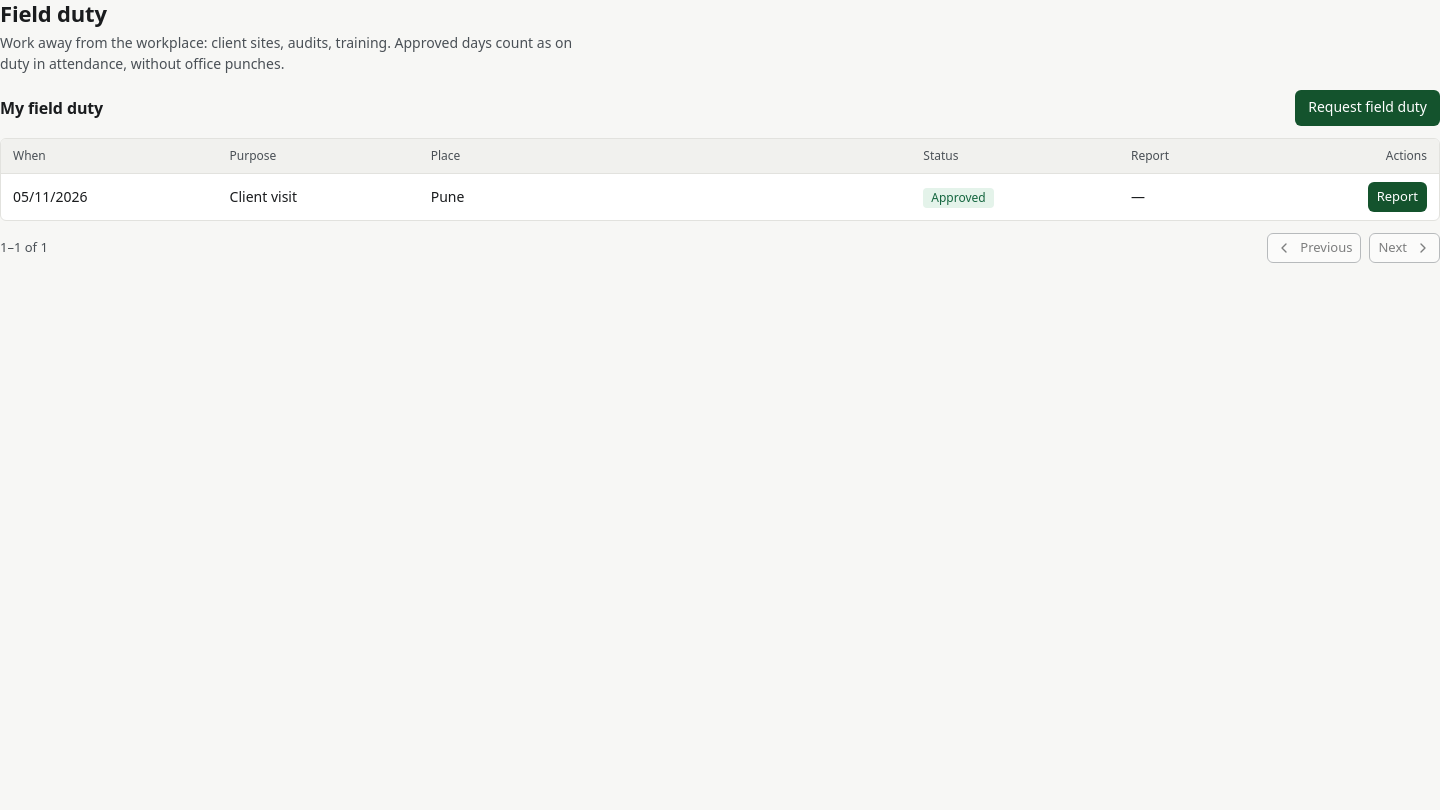
Test: reporting on a duty › completed needs no note, and sends none
The image size is (1440, 810).
Click the button "Report": (1397, 196) [1368,182,1427,212]
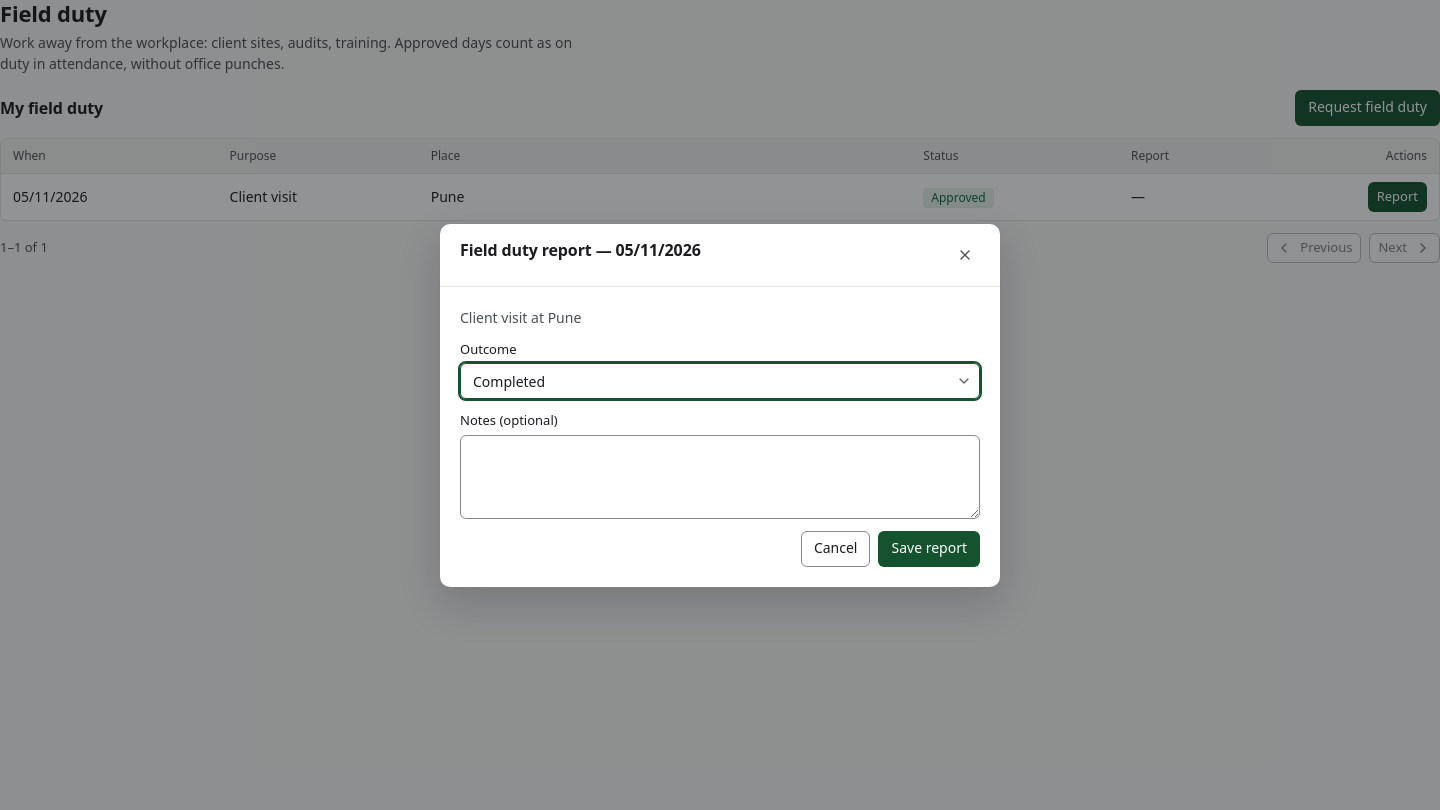
Click the button "Save report": (929, 548) [878,530,980,566]
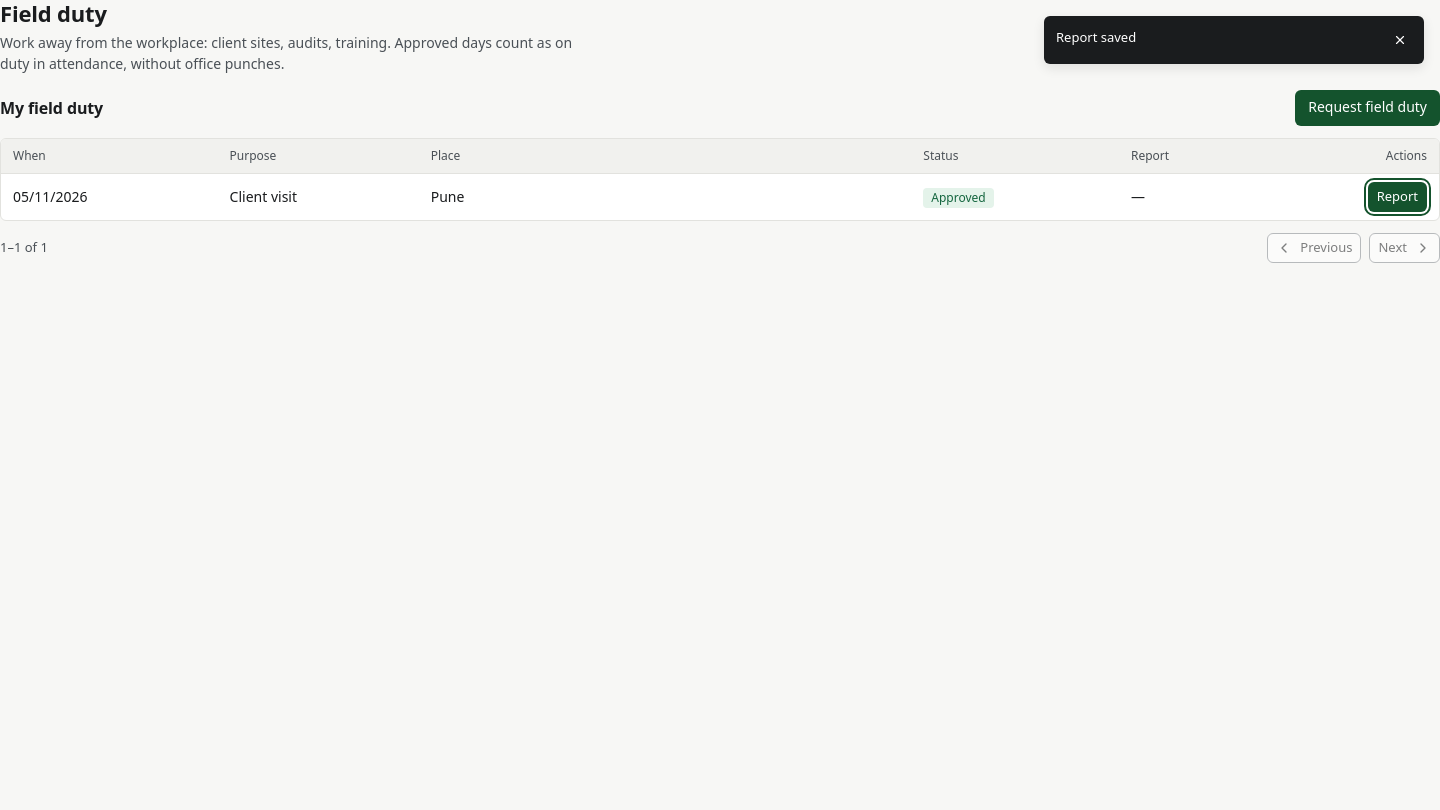
Check: the text "Report saved" is shown, box [1056,28,1136,46]
Check: the dialog is gone
